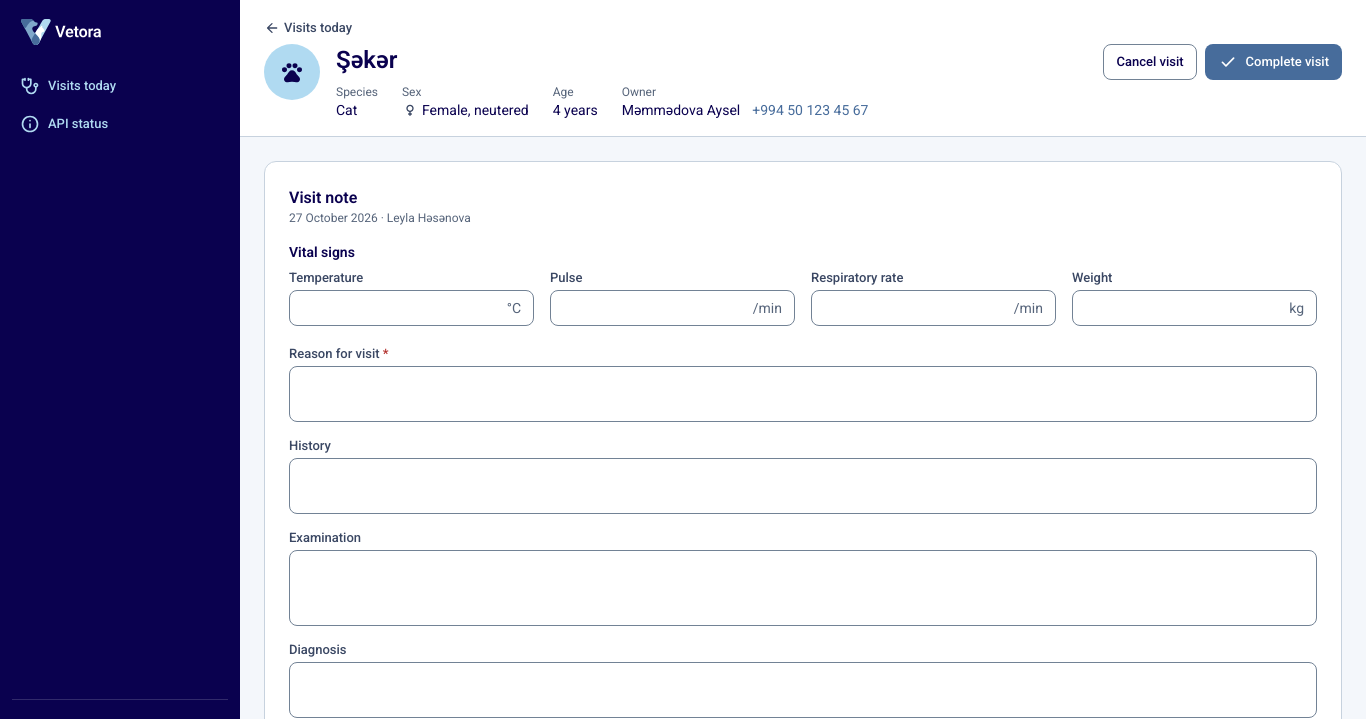
Test case: the draft note survives a dropped connection (#24, seam 3) › in en: with no connection the line says the text is kept, and Complete visit says there is no connection; axe finds no violation
This screenshot has width=1366, height=719.
expect the heading "Şəkər" is shown: met, box [336,44,397,76]
Type "Limping" into the text box labelled "Reason for visit" at (803, 394), box [290,367,1316,421]
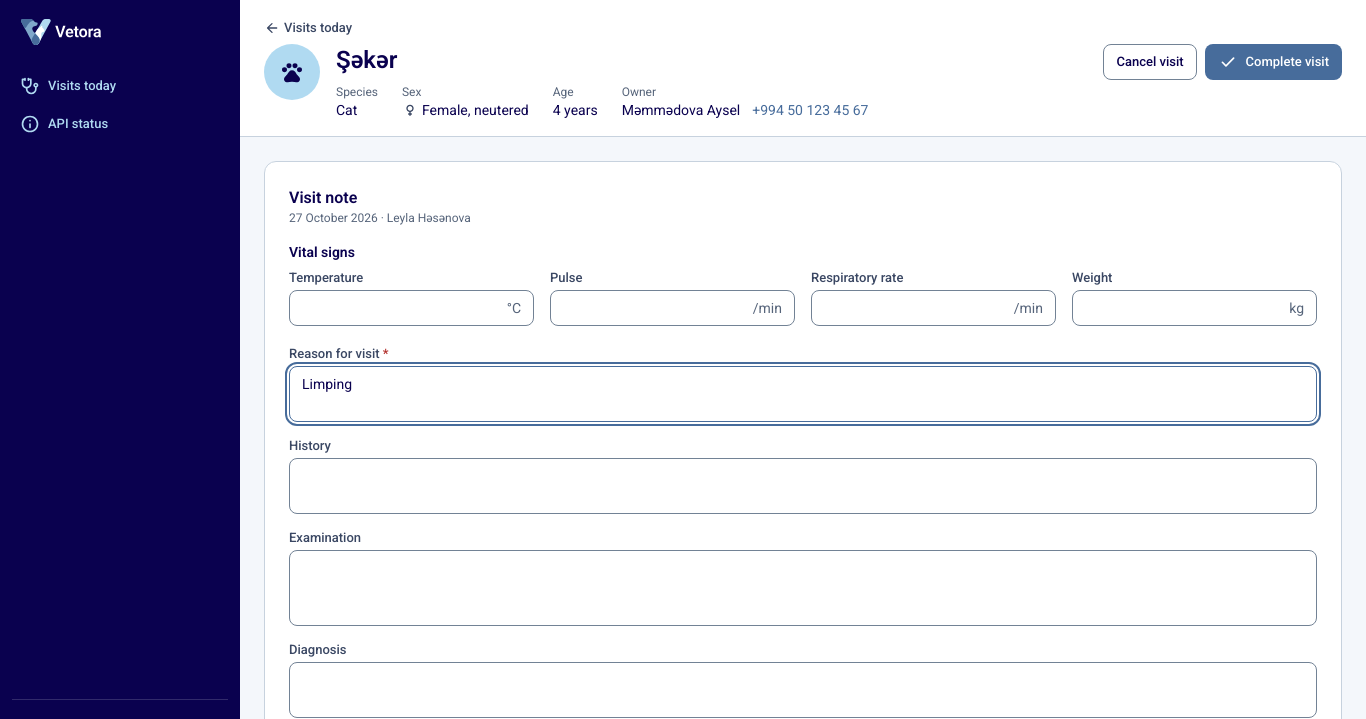
Press Tab
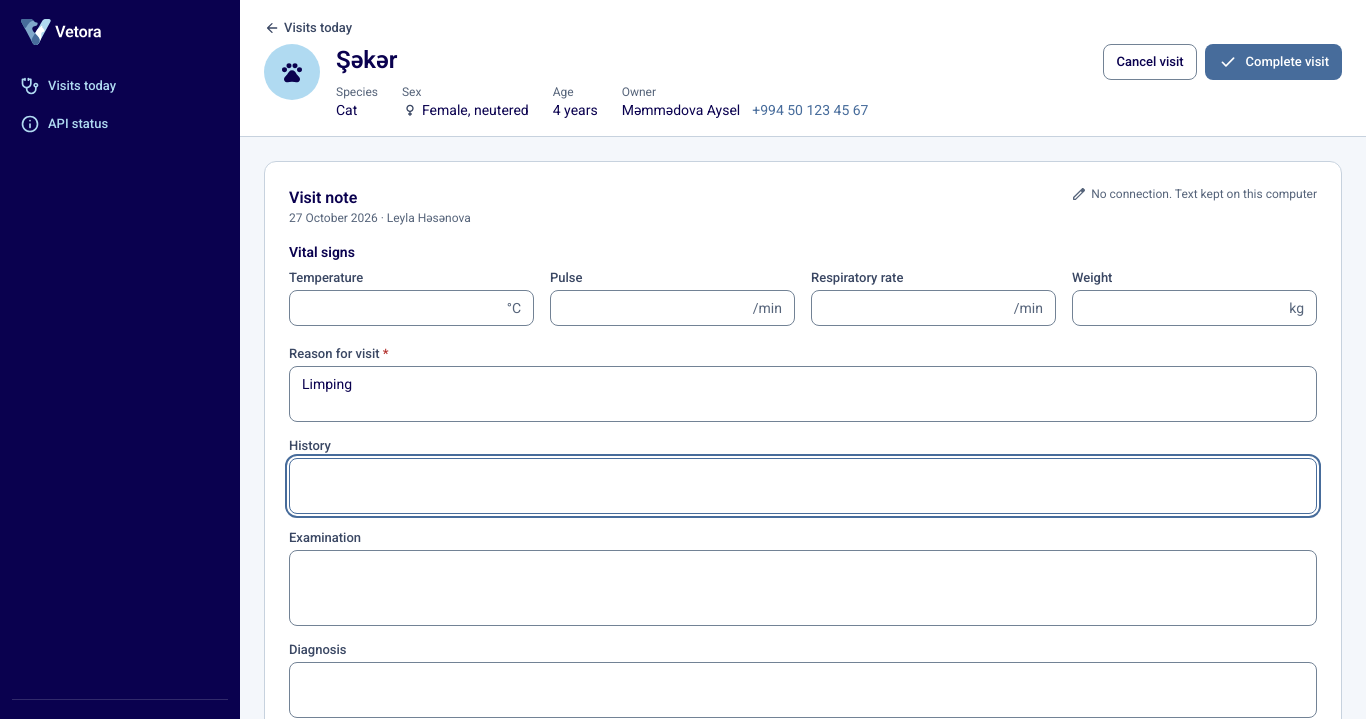
expect the text "No connection. Text kept on this computer" is shown: met, box [1091,186,1317,202]
Click the button "Complete visit" at (1273, 62), box [1205,44,1342,80]
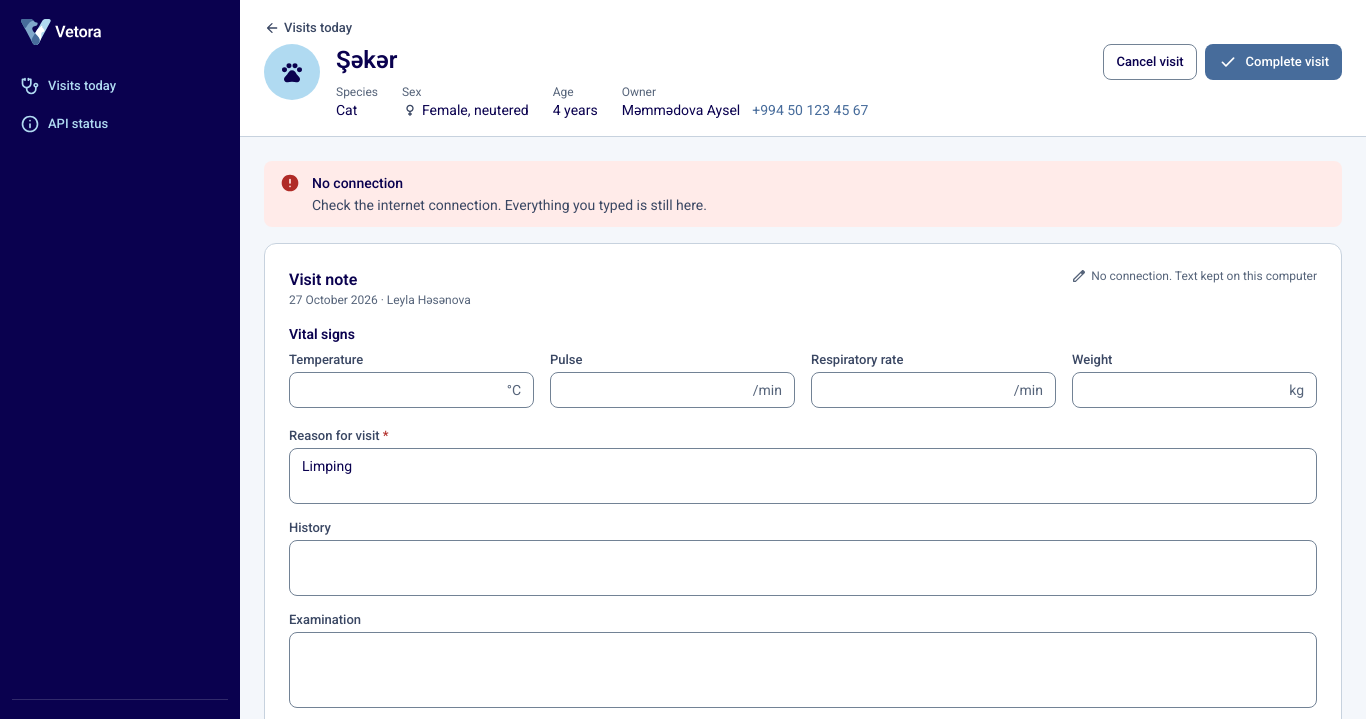
expect the text "No connection" is shown: met, box [312,175,403,191]
